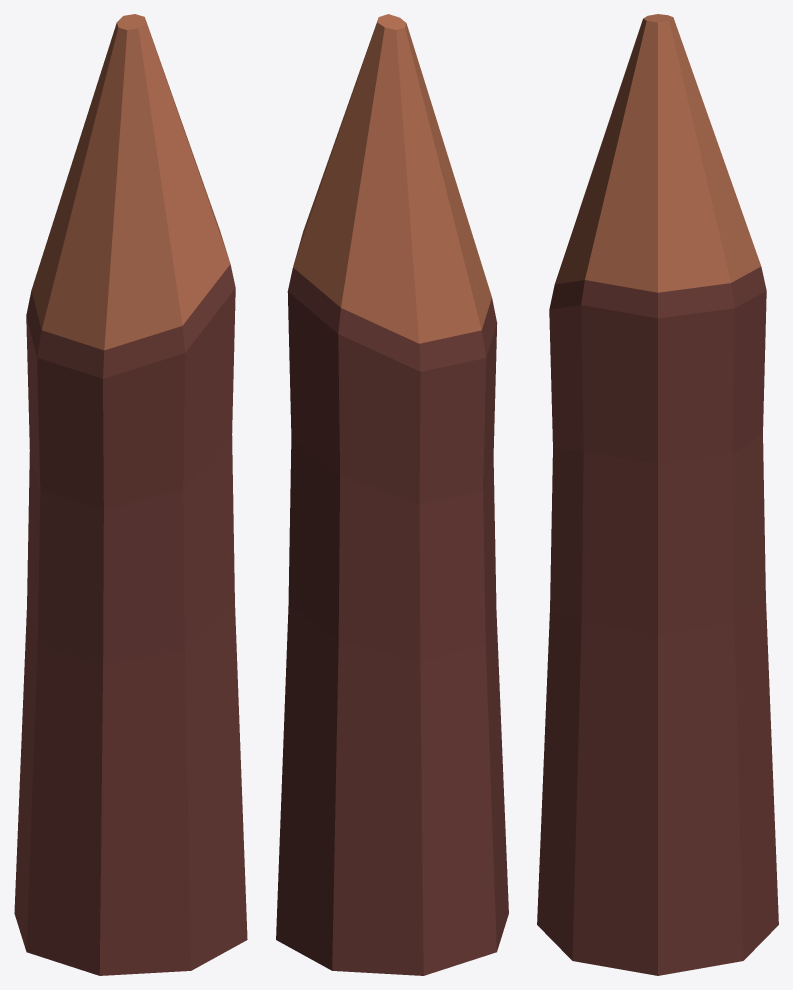
The model's file is Wooden Pole Sharp 02.fbx.
3 renders of one model, left to right at view 1: azimuth 30°, elevation 25°; view 2: azimuth 150°, elevation 25°; view 3: azimuth 270°, elevation 25°, orthographic.
Visible parts, largest first — view 1: Wooden Pole Sharp 02; view 2: Wooden Pole Sharp 02; view 3: Wooden Pole Sharp 02.
Boxes of the visible parts, x1,y1,x2,y2 form: Wooden Pole Sharp 02: [14, 14, 247, 975]; Wooden Pole Sharp 02: [276, 14, 508, 975]; Wooden Pole Sharp 02: [537, 14, 778, 975].
Size of the model in its own units: 30.34 by 126 by 30.34.
